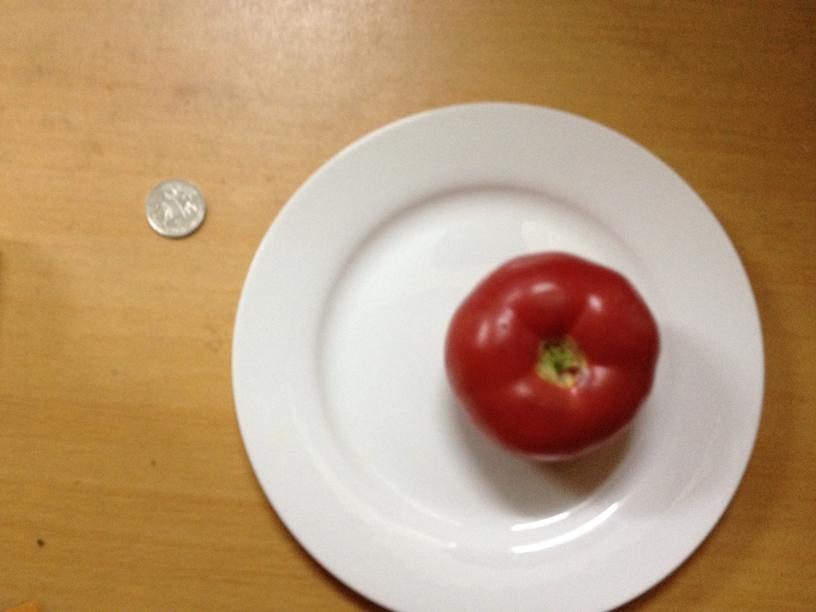coin: (144, 179, 208, 236)
tomato: (446, 248, 661, 459)
